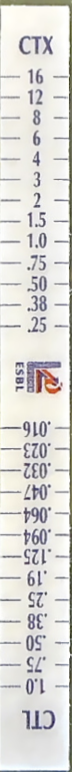number: (22, 417, 52, 439), (22, 461, 53, 481), (21, 440, 53, 459), (22, 505, 51, 525), (22, 527, 52, 546), (22, 483, 52, 501), (23, 548, 51, 567), (23, 654, 48, 674), (25, 315, 49, 335), (25, 211, 49, 230), (25, 294, 49, 313), (25, 254, 48, 273), (26, 590, 49, 609), (24, 569, 49, 586), (26, 88, 47, 108), (27, 612, 48, 632), (25, 676, 45, 697), (24, 634, 46, 653), (25, 232, 48, 250), (26, 275, 49, 293), (26, 67, 46, 85), (31, 127, 43, 148), (30, 109, 44, 126), (31, 150, 43, 168), (31, 191, 43, 209), (31, 170, 42, 188)
